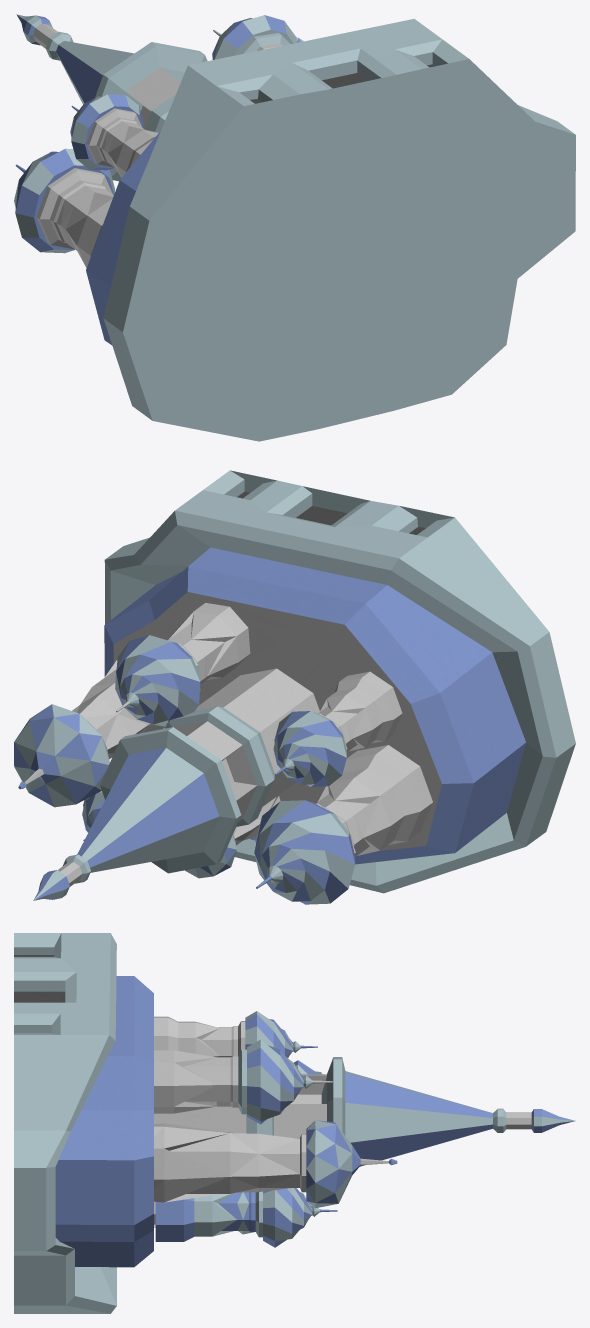
File: ice_symbol_castle.FBX
The picture shows the model from 3 angles, top to bottom: view 1: azimuth 30°, elevation 25°; view 2: azimuth 150°, elevation 25°; view 3: azimuth 270°, elevation 25°; orthographic projection. The views are drawn at different scales.
Parts seen in each view (by area): view 1: statue_7.001; view 2: statue_7.001; view 3: statue_7.001.
Boxes of the visible parts, left/top/right/bottom form: statue_7.001: left=14, top=14, right=575, bottom=441; statue_7.001: left=14, top=470, right=575, bottom=904; statue_7.001: left=14, top=933, right=575, bottom=1313.
Bounding box in the file's own units: 475 × 341 × 590.
